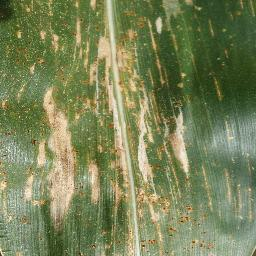Gray_Leaf_Spot: (104, 0, 194, 159), (25, 0, 83, 230), (84, 160, 216, 256), (83, 0, 104, 159), (0, 20, 25, 139), (222, 166, 255, 233), (0, 148, 11, 211), (229, 0, 256, 22), (0, 214, 24, 231), (223, 118, 237, 144), (212, 73, 223, 104), (208, 15, 216, 39), (194, 22, 202, 42), (193, 3, 203, 17), (223, 48, 233, 61)
